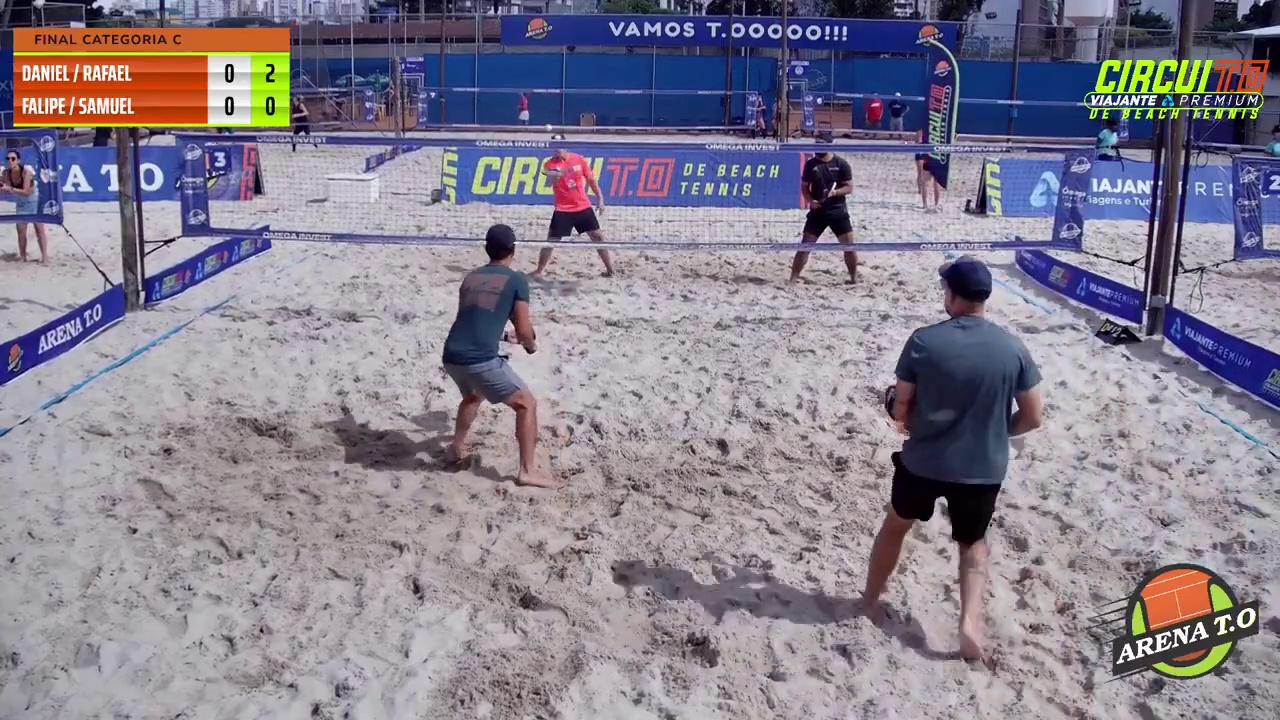court_line: (640, 0, 805, 357)
